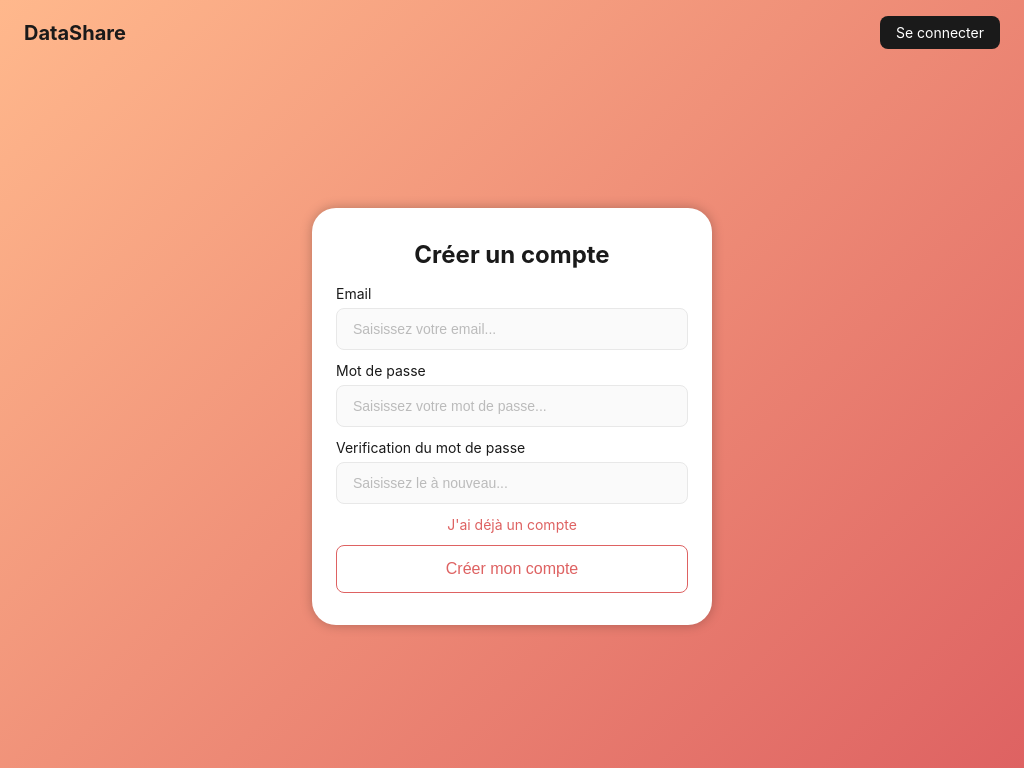
Authentication › should show error when passwords do not match
Type "test@datashare.fr" into the field with id "email" at (512, 329), box [336,308,688,350]
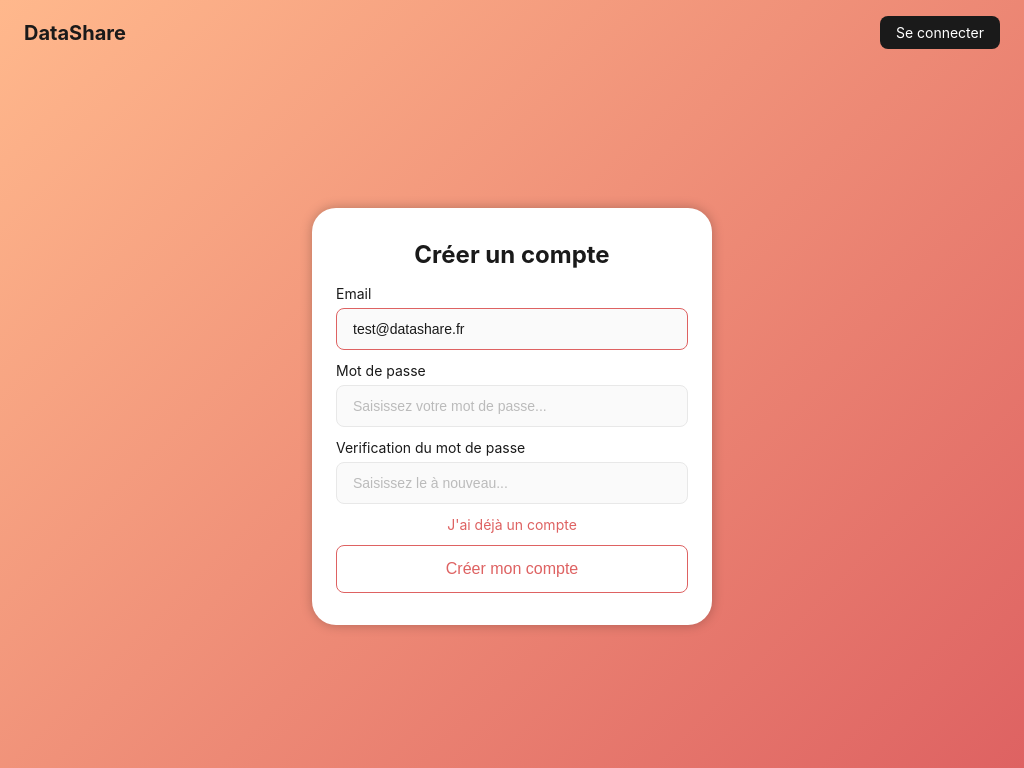
Type "motdepasse123" into the password field with placeholder "Saisissez votre mot de passe..." at (512, 406), box [336,385,688,427]
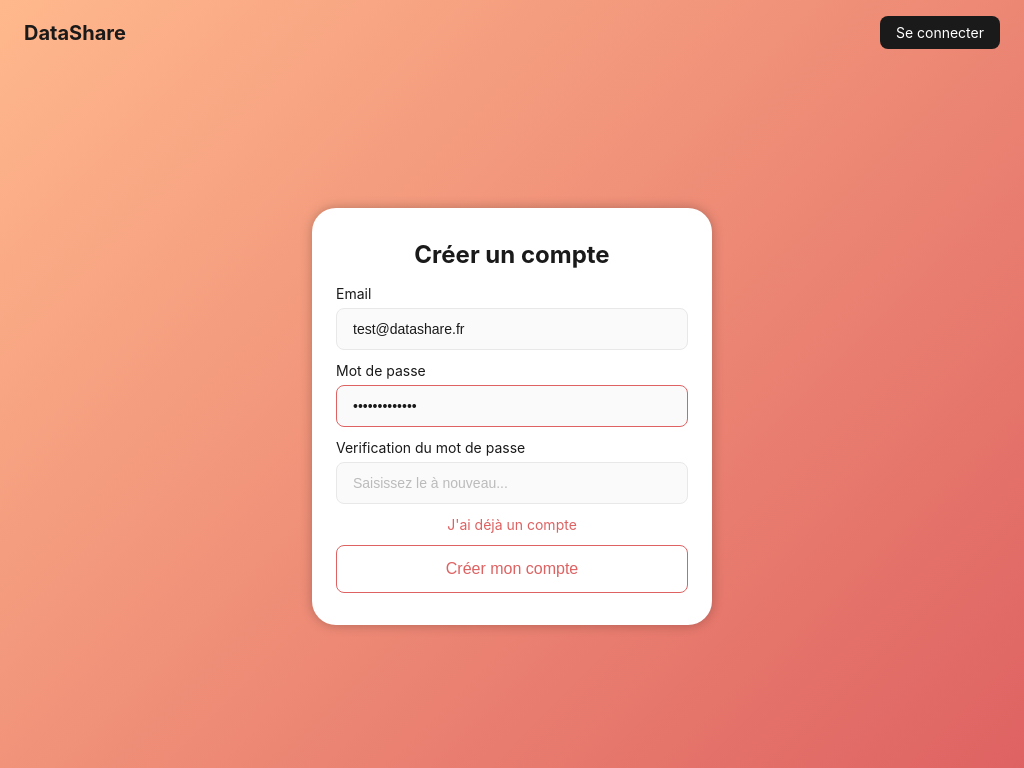
Type "autremotdepasse" into the password field with id "confirmPassword" at (512, 483), box [336,462,688,504]
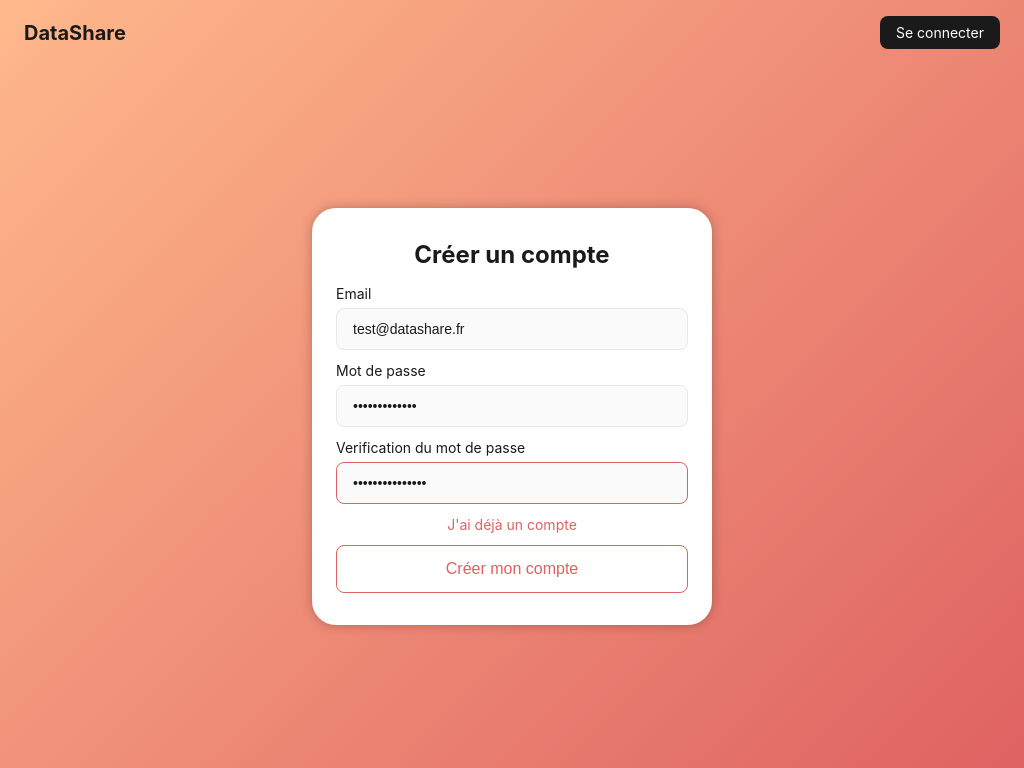
Click the submit button at (512, 569), box [336,545,688,593]
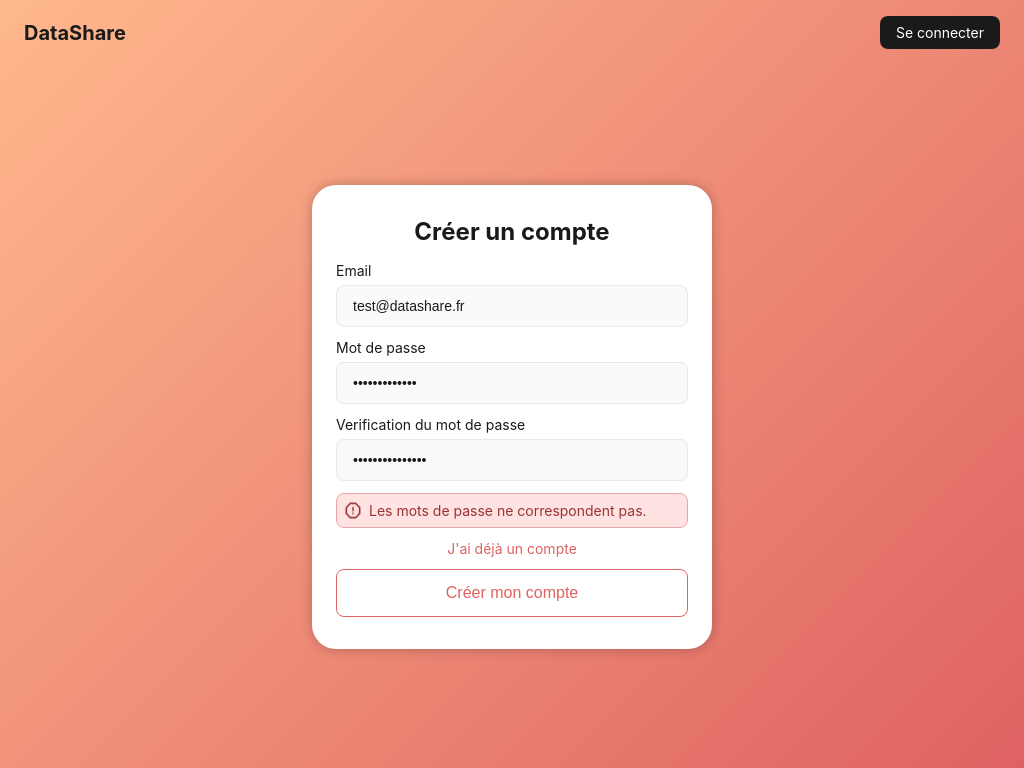
Result: the message "Les mots de passe ne correspondent pas." is shown at [336,492,688,528]
